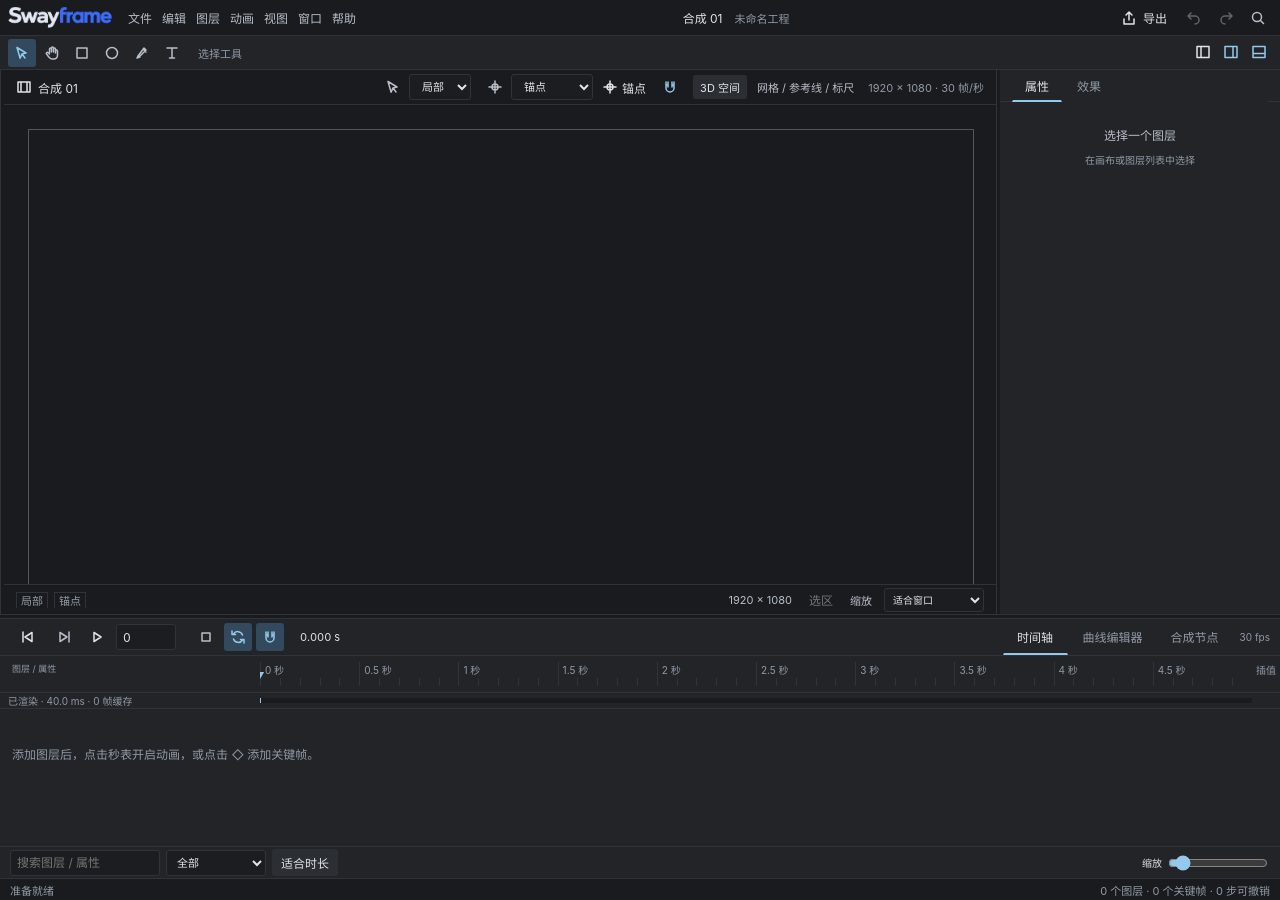
助手入口显示已折叠左面板，选区和Scene保持，面板尺寸只改变UI
Click the heading "窗口" at (310, 18), box [298,11,322,26]
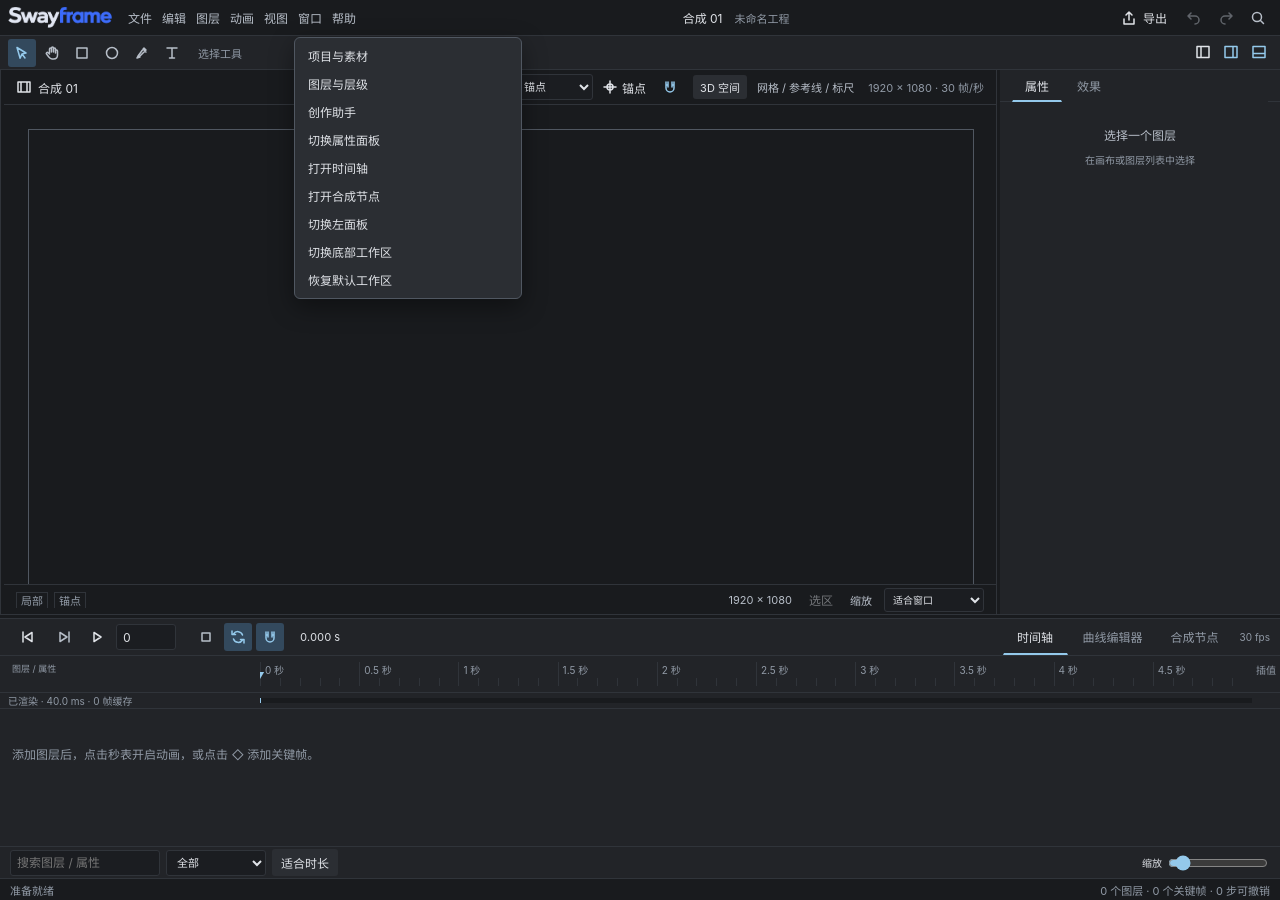
Click the menu item "创作助手" at (408, 112), box [299,98,517,126]
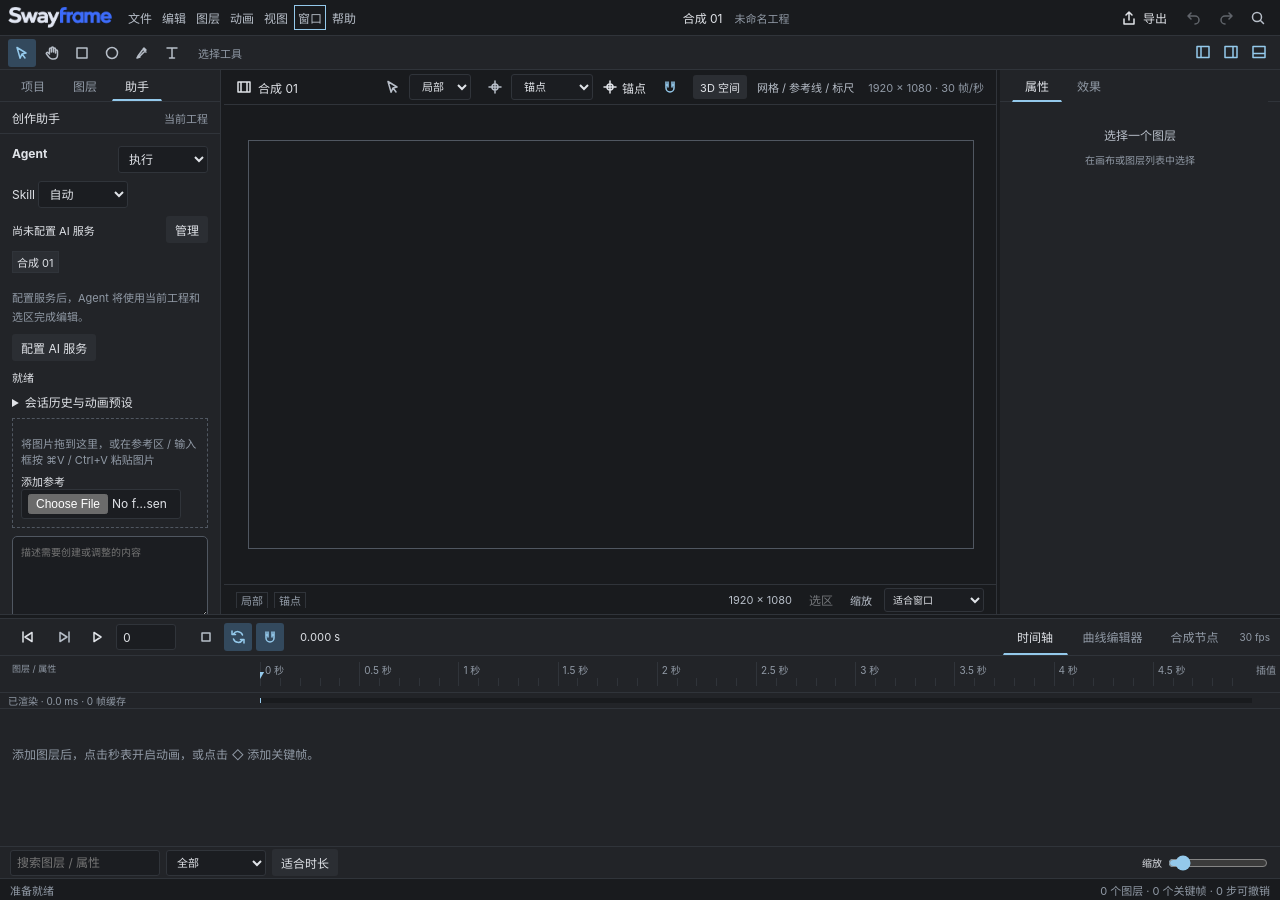
Check: the text box named "Agent 需求" is shown, box [12,536,208,614]
